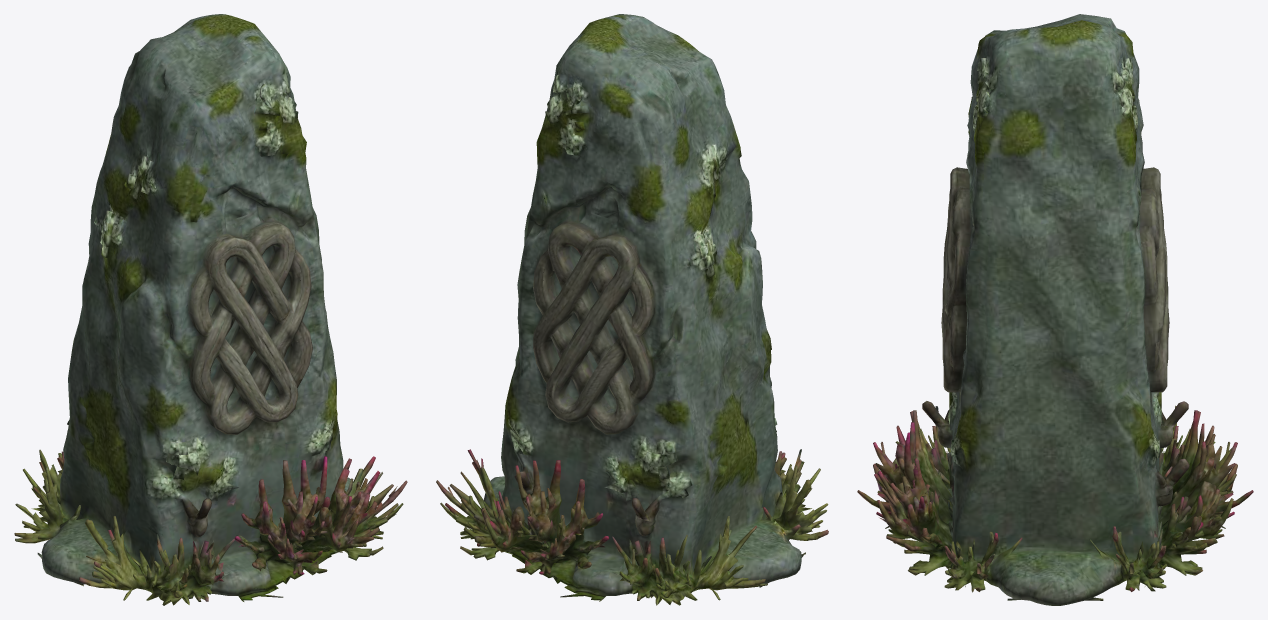
File: lm_standing_stone.glb
The picture shows the model from 3 angles, left to right: view 1: azimuth 30°, elevation 25°; view 2: azimuth 150°, elevation 25°; view 3: azimuth 270°, elevation 25°; orthographic projection. The views are drawn at different scales.
Visible parts, largest first — view 1: lm_standing_stone-convcol; view 2: lm_standing_stone-convcol; view 3: lm_standing_stone-convcol.
Part boxes in pixels (bbox=[...]): lm_standing_stone-convcol: bbox=[14, 14, 407, 605]; lm_standing_stone-convcol: bbox=[436, 14, 828, 605]; lm_standing_stone-convcol: bbox=[857, 14, 1253, 605].
Size of the model in its own units: 2.29 by 3.5 by 2.42.
1 material, 1 textured.
